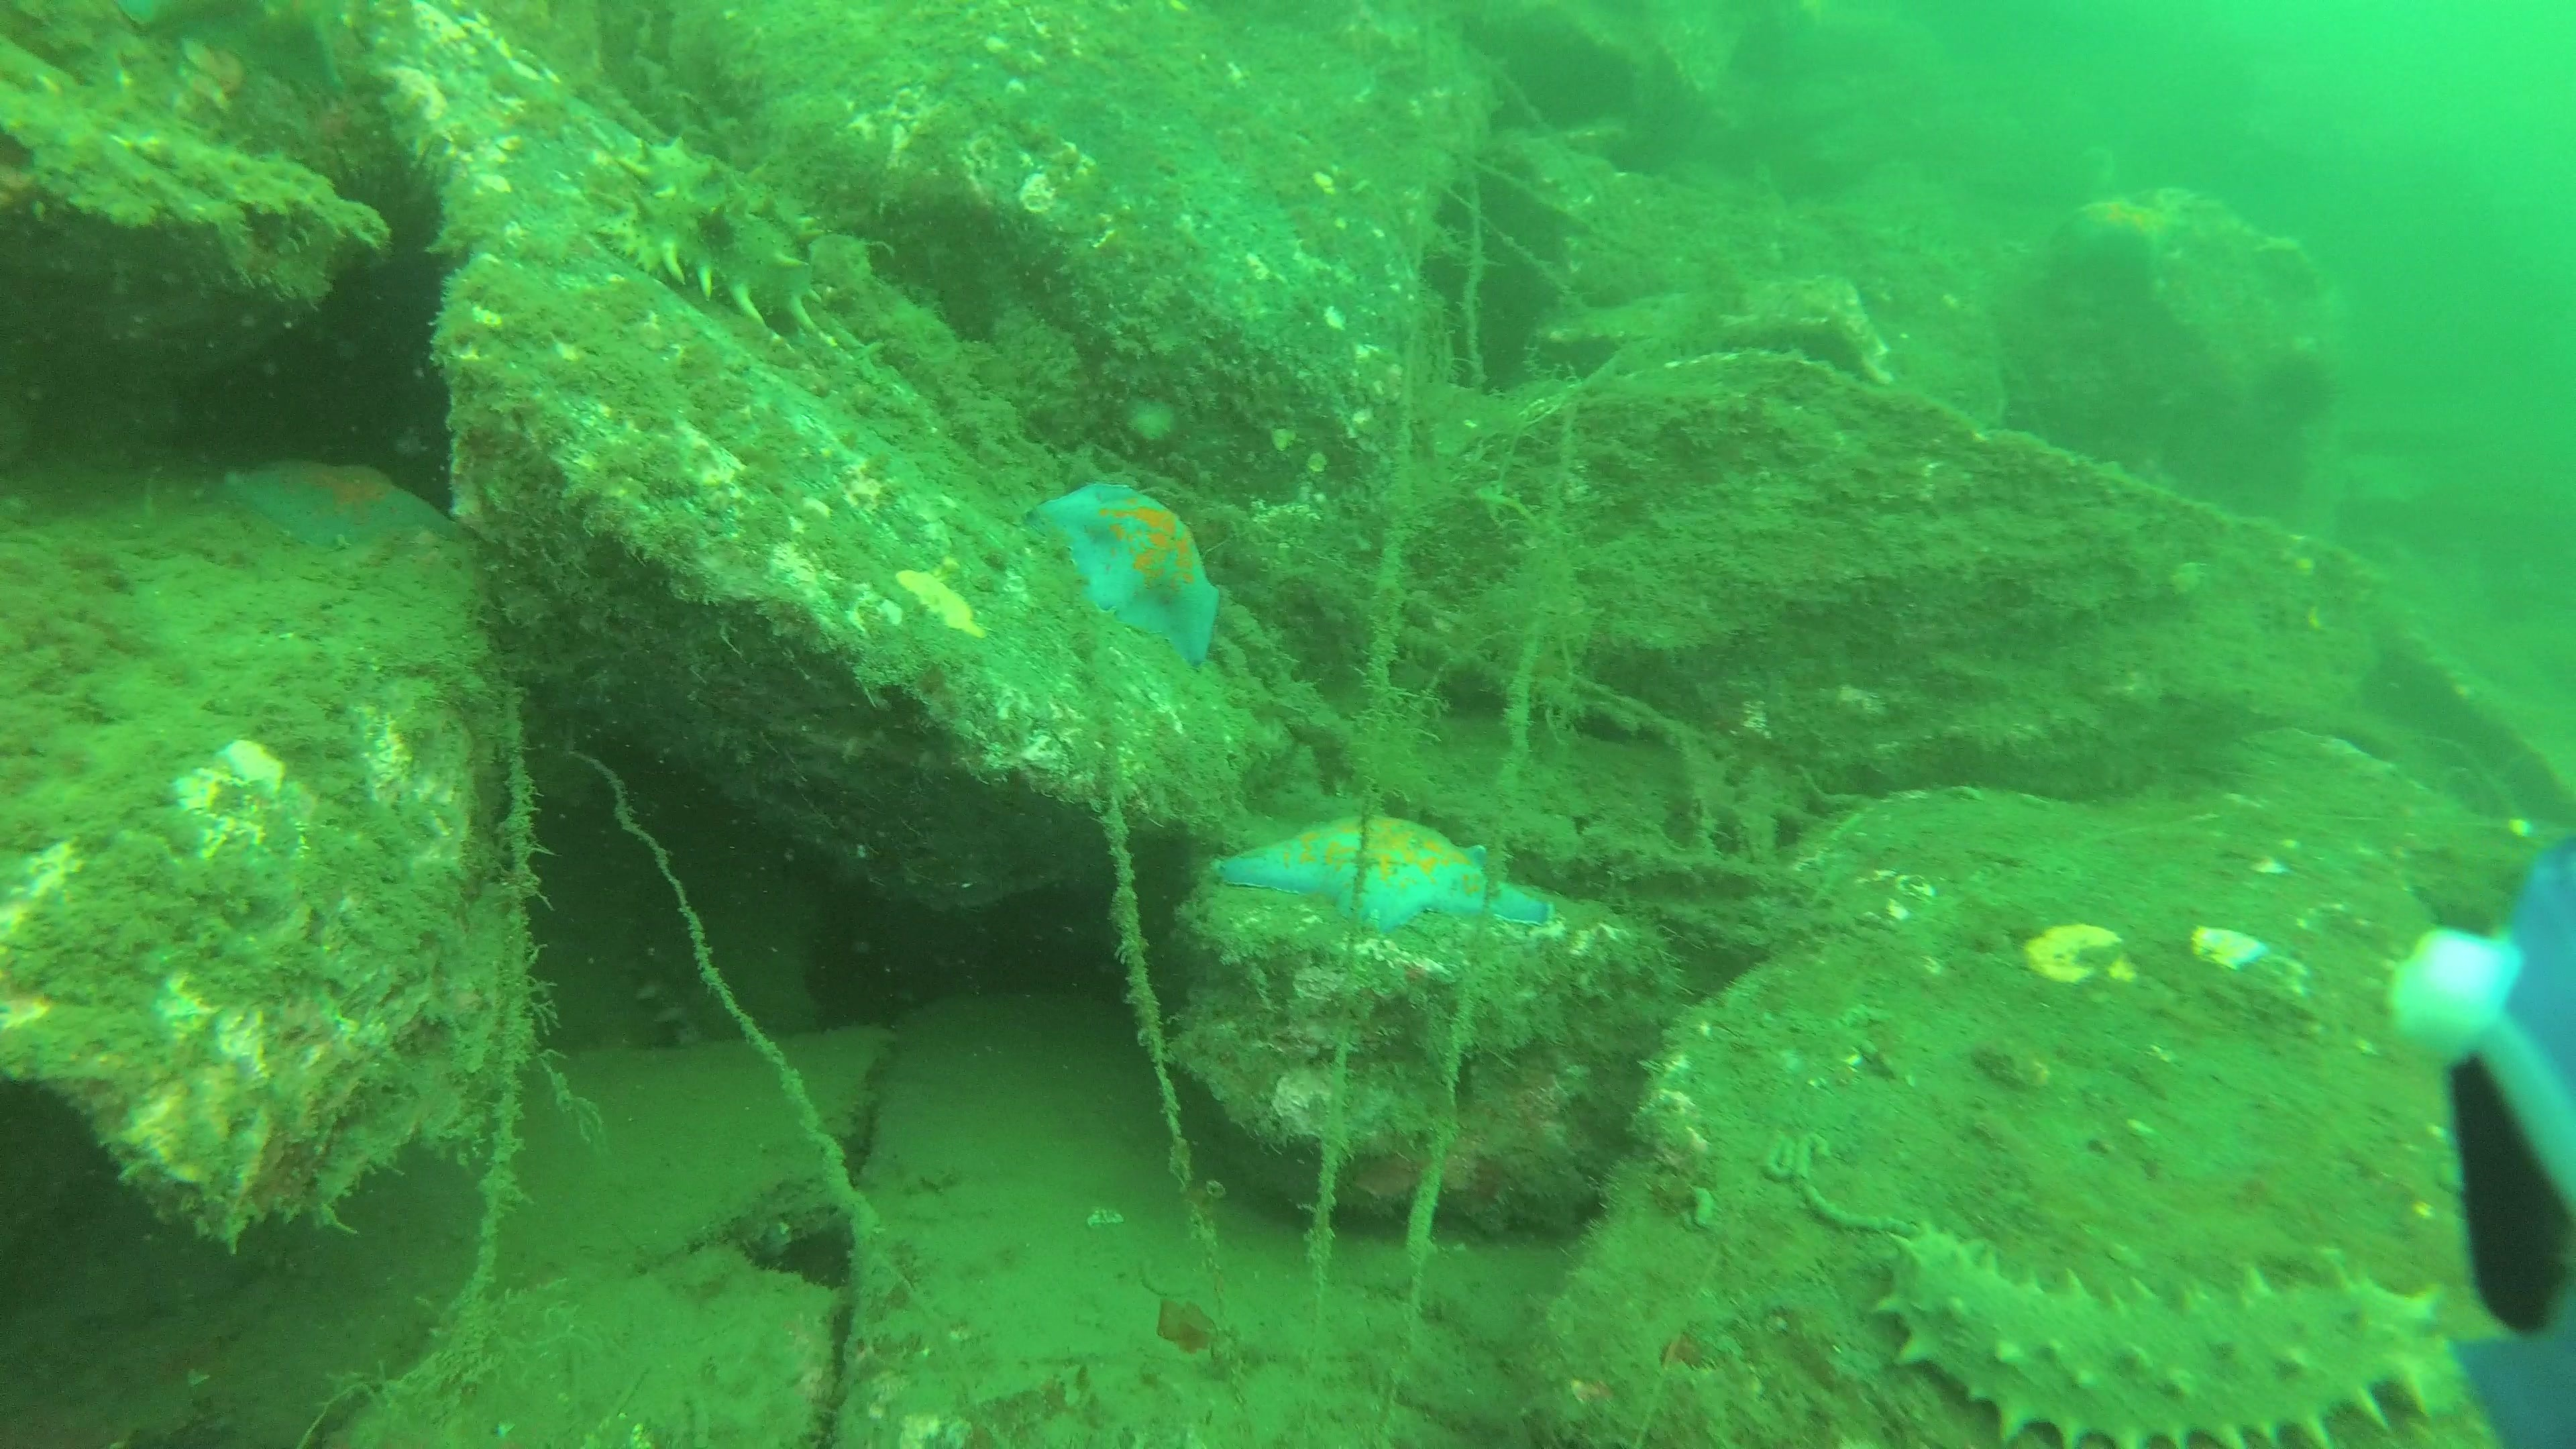holothurian: (1863, 1212, 2473, 1449), (554, 110, 957, 350)
starfish: (1208, 807, 1575, 943), (2012, 145, 2212, 356), (1030, 465, 1228, 676), (207, 455, 460, 566)
